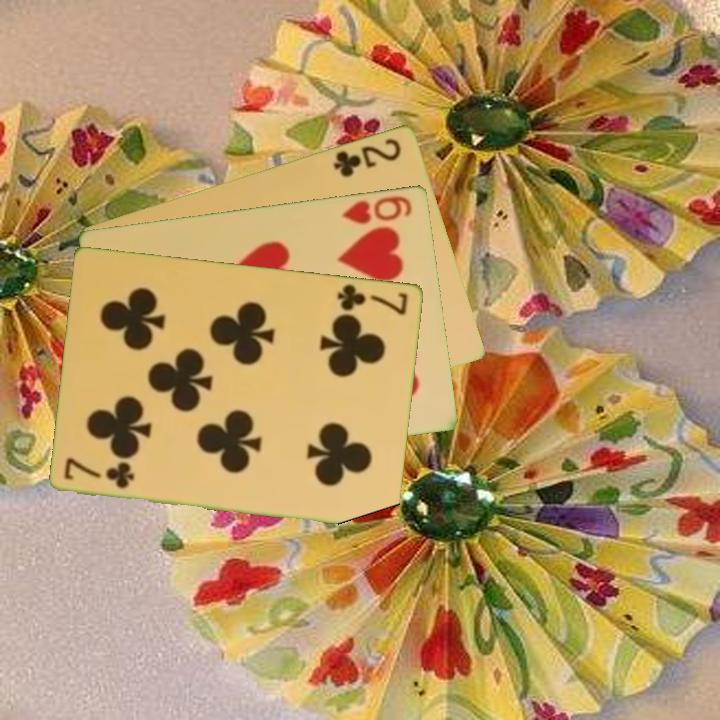2c: (330, 134, 404, 180)
6h: (339, 192, 415, 227)
7c: (334, 280, 411, 317), (61, 454, 137, 491)
